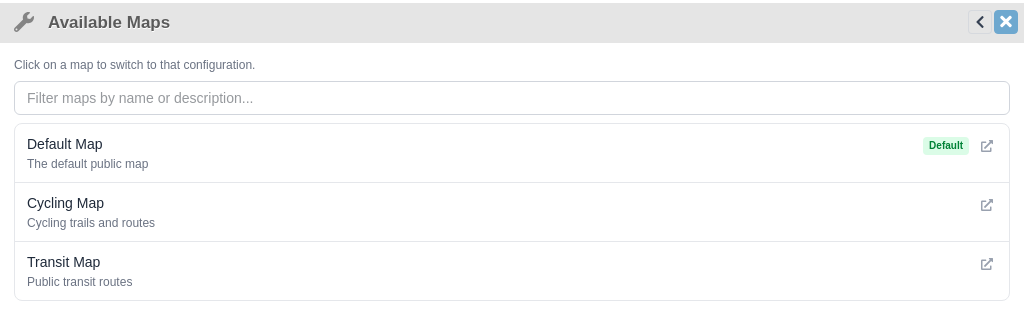
Test: AvailableMapsTool › clears filter when clear button is clicked
Check: the text "Default Map" is shown, box [27,134,102,154]
In the field with placeholder "Filter maps by name or description...": (512, 98) [14,81,1010,115], type "Cycling"
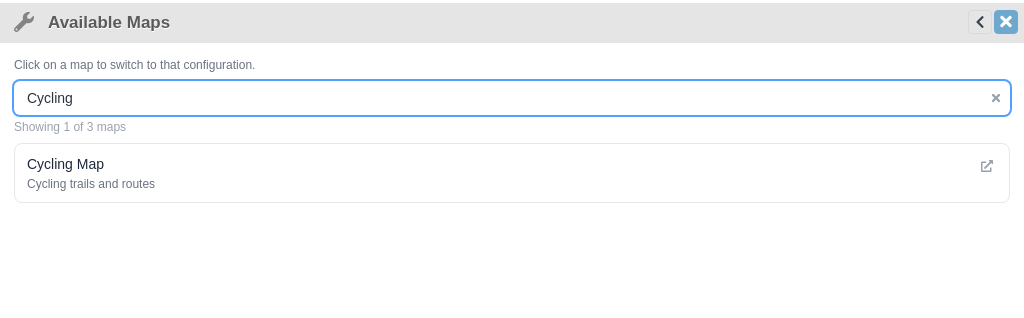
Check: the button "Default Map" is gone
Click the button titled "Clear filter": (996, 98) [990,92,1002,104]
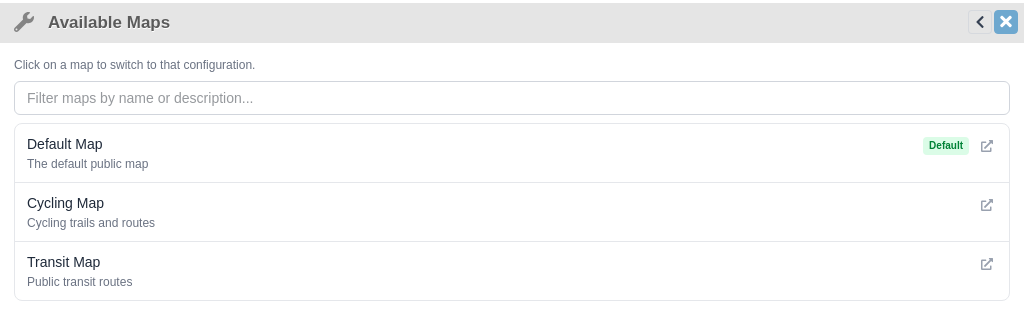
Check: the text "Cycling Map" is shown, box [27,193,104,213]
Check: the text "Default Map" is shown, box [27,134,102,154]
